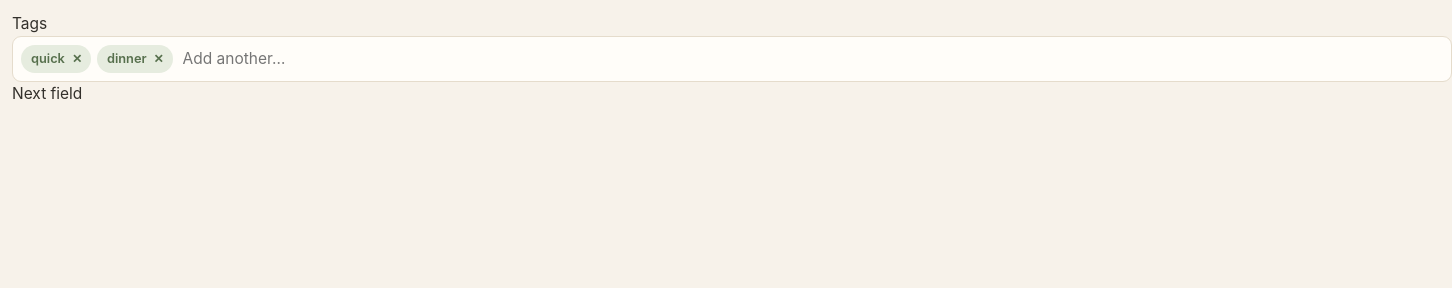
Test: TagInput: removing tags › removes the last tag with Backspace in an empty field
The width and height of the screenshot is (1452, 288).
Step 1. Click the dropdown labelled "Tags" → (811, 59), box x1=179 y1=45 x2=1443 y2=73
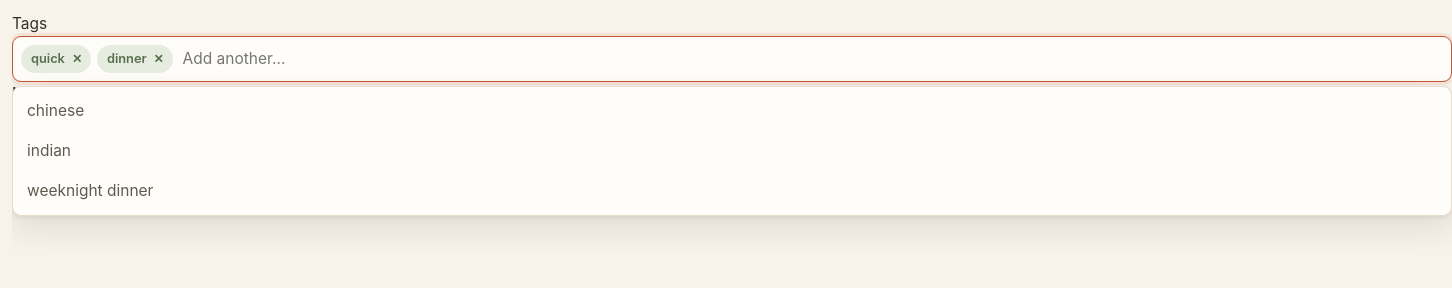
Step 2. Press Backspace
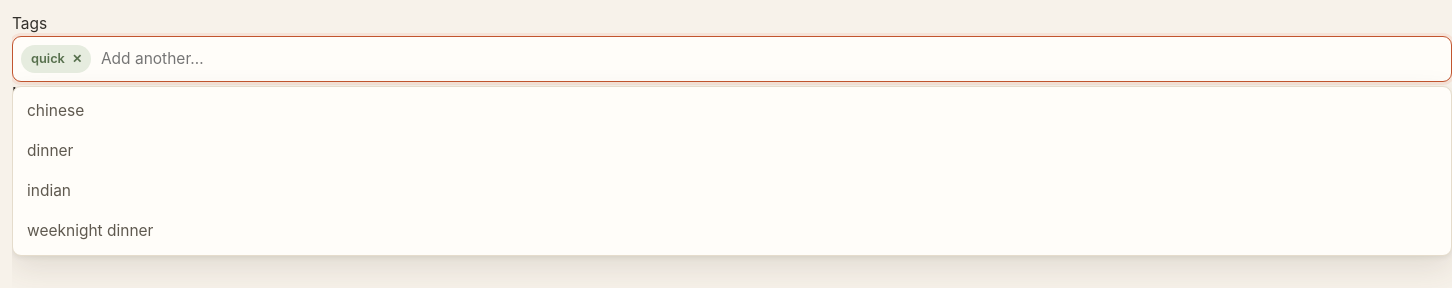
With something typed, Backspace edits the typing and nothing else.
Step 3. Type keys "ab{Backspace}"
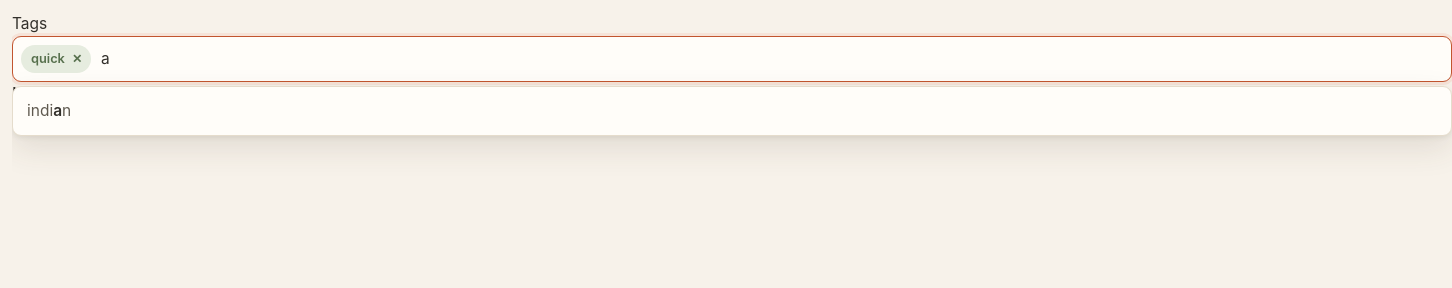
expect the dropdown labelled "Tags" holds "a": met, box x1=97 y1=45 x2=1443 y2=73
